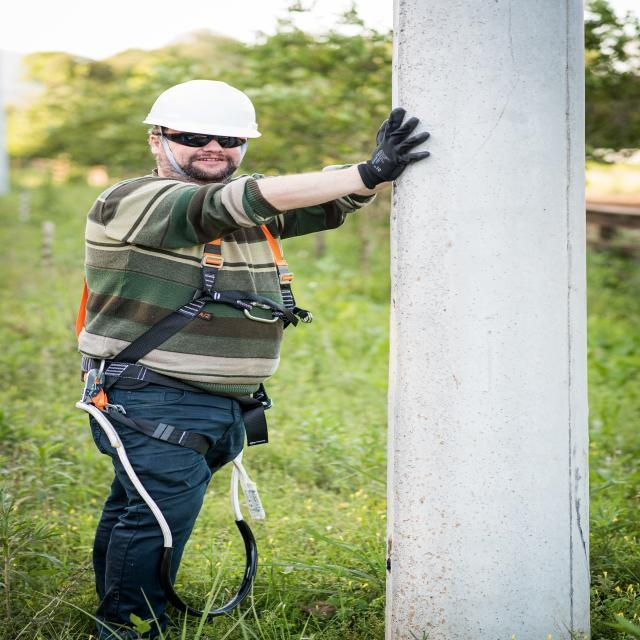Arnes_seguridad: (69, 175, 319, 468)
